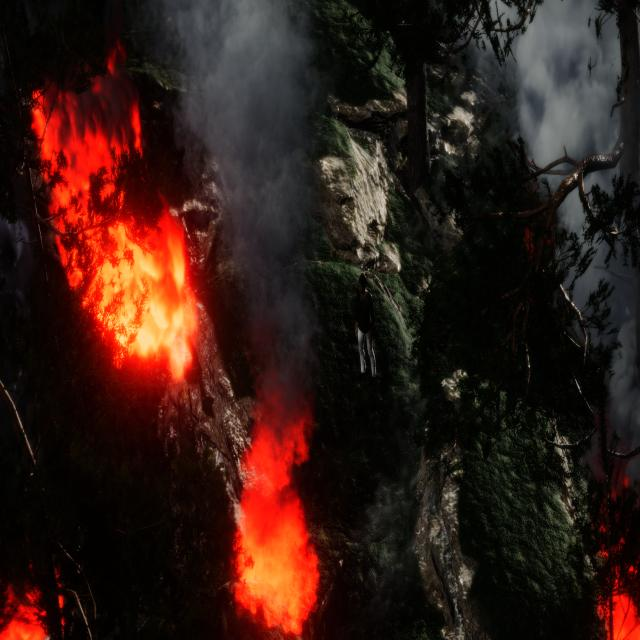Human: (349, 271, 382, 391)
